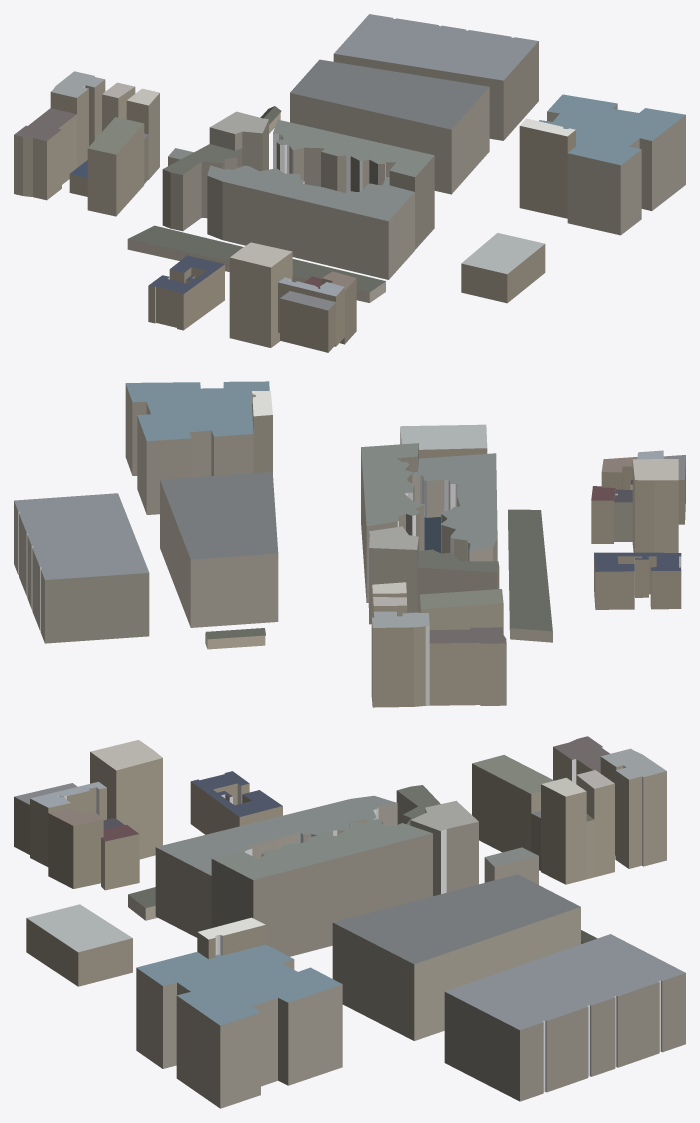
3 views of the same model, one above another, from view 1: azimuth 30°, elevation 25°; view 2: azimuth 150°, elevation 25°; view 3: azimuth 270°, elevation 25° (orthographic). The views are drawn at different scales.
Parts seen in each view (by area): view 1: tuile; view 2: tuile; view 3: tuile.
Part boxes in pixels (x1,y1,x2,y2): tuile: (14,14,685,352); tuile: (14,381,685,707); tuile: (14,736,685,1108).
Bounding box in the file's own units: 287 × 50.28 × 265.
